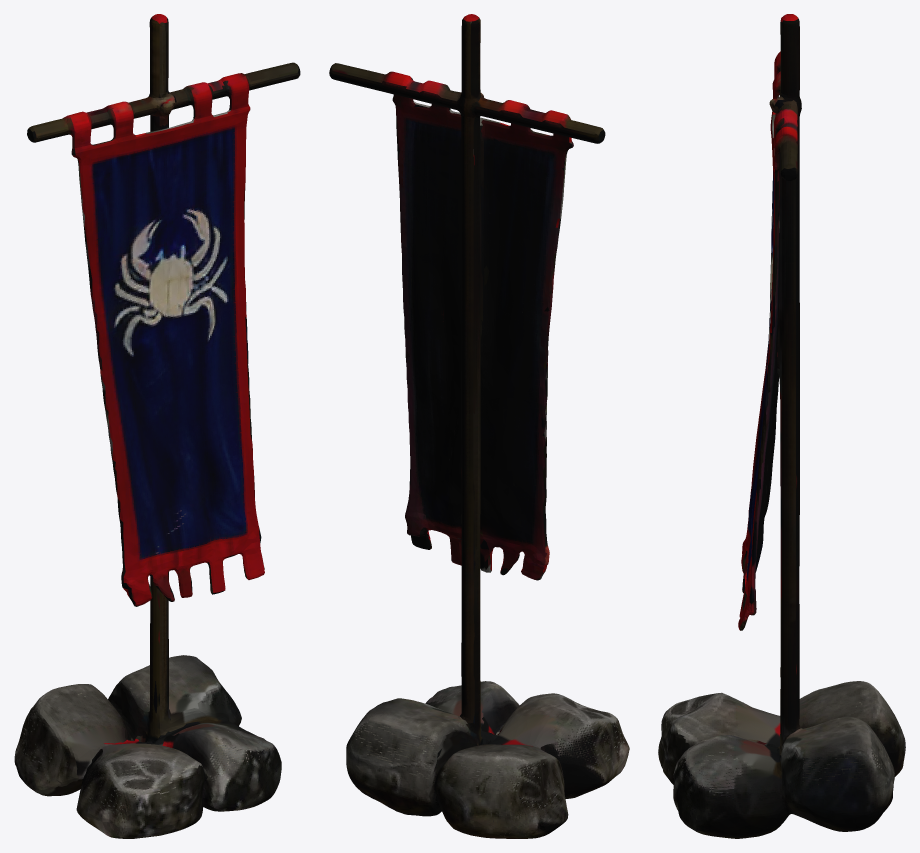
The model's file is traveler_env_coast_hiruma_fallen_standard_00001_.glb.
3 views of the same model, side by side, from view 1: azimuth 30°, elevation 25°; view 2: azimuth 150°, elevation 25°; view 3: azimuth 270°, elevation 25° (orthographic). The views are drawn at different scales.
Parts seen in each view (by area): view 1: temp_mesh.ply; view 2: temp_mesh.ply; view 3: temp_mesh.ply.
Boxes of the visible parts, bbox=[...] form: temp_mesh.ply: bbox=[14, 14, 300, 838]; temp_mesh.ply: bbox=[329, 14, 629, 838]; temp_mesh.ply: bbox=[658, 14, 905, 838].
Size of the model in its own units: 0.7174 by 1.97 by 0.5597.
1 material, 1 textured.
